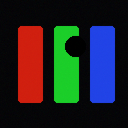2 circle: (65, 36, 85, 56)
